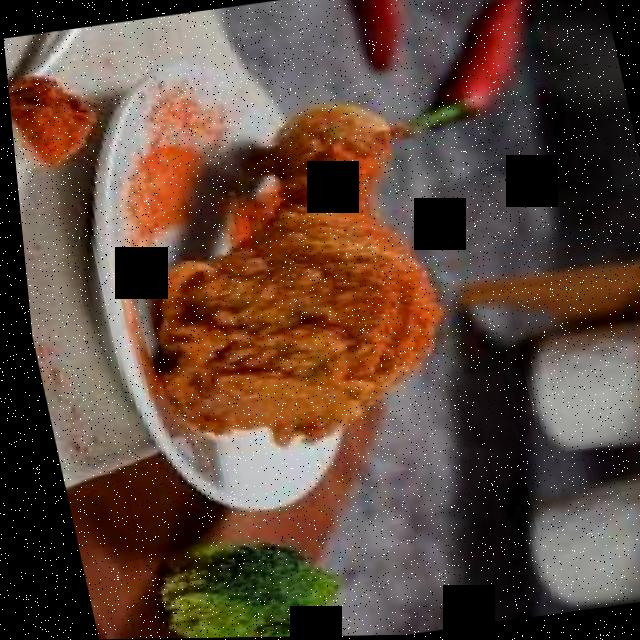Frango: (106, 97, 448, 455)
